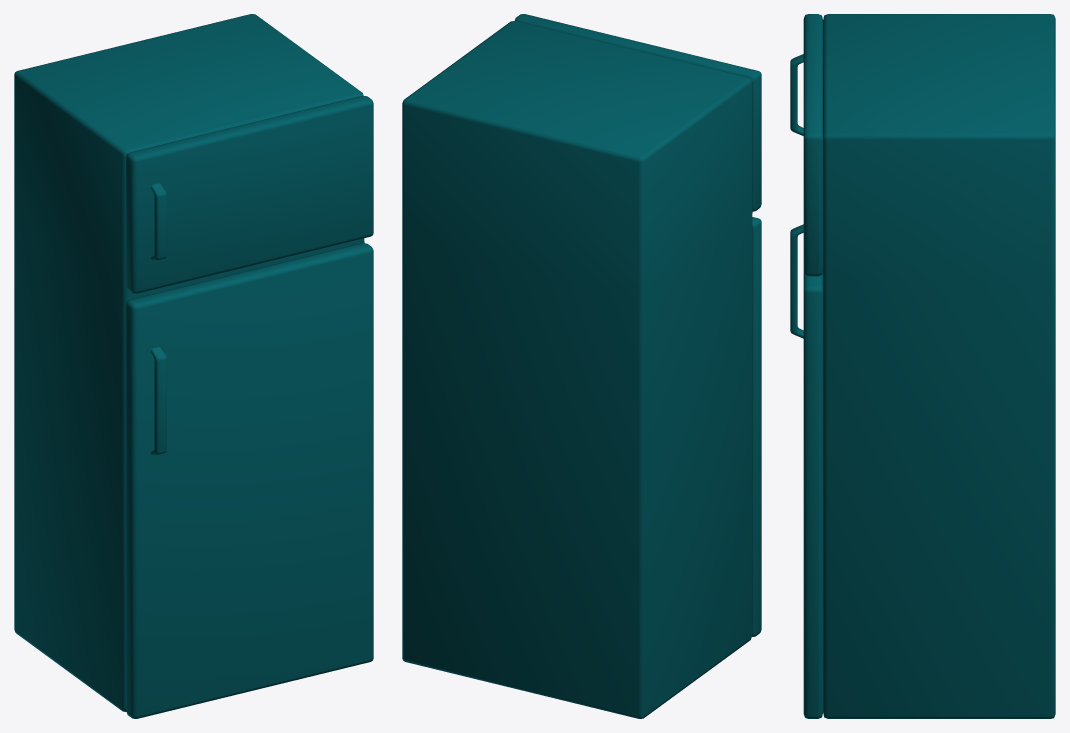
Rendered from SM_Fridge.fbx.
The picture shows the model from 3 angles, left to right: view 1: azimuth 30°, elevation 25°; view 2: azimuth 150°, elevation 25°; view 3: azimuth 270°, elevation 25°; orthographic projection. The views are drawn at different scales.
Visible parts, largest first — view 1: SM_Fridge_Door_01, SM_Fridge, SM_Fridge_Door_02; view 2: SM_Fridge, SM_Fridge_Door_01, SM_Fridge_Door_02; view 3: SM_Fridge, SM_Fridge_Door_01, SM_Fridge_Door_02.
Part boxes in pixels (bbox=[...]): SM_Fridge_Door_01: bbox=[126, 243, 373, 718]; SM_Fridge: bbox=[14, 14, 364, 711]; SM_Fridge_Door_02: bbox=[126, 96, 373, 293]; SM_Fridge: bbox=[402, 21, 752, 718]; SM_Fridge_Door_01: bbox=[752, 217, 761, 636]; SM_Fridge_Door_02: bbox=[514, 14, 761, 211]; SM_Fridge: bbox=[823, 14, 1055, 718]; SM_Fridge_Door_01: bbox=[790, 224, 822, 718]; SM_Fridge_Door_02: bbox=[790, 14, 822, 276].
Bounding box in the file's own units: 90 × 200 × 82.14.
